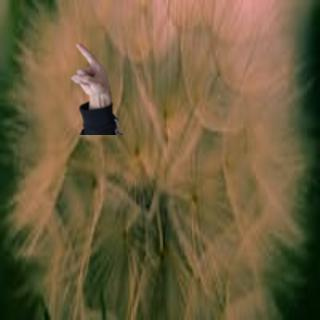IRRITATED: (68, 41, 112, 96)
